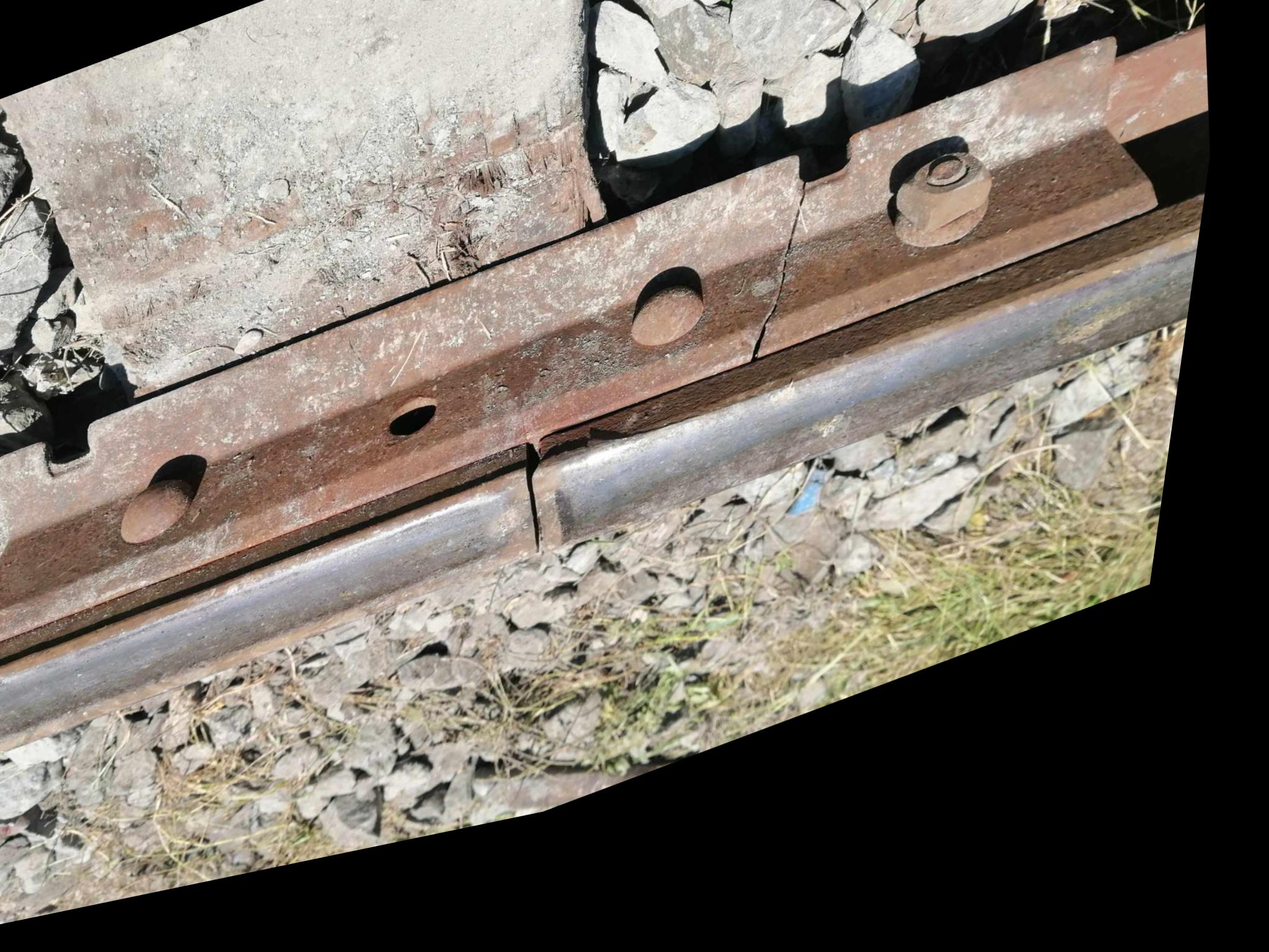person: (687, 140, 930, 427), (433, 407, 672, 636)
